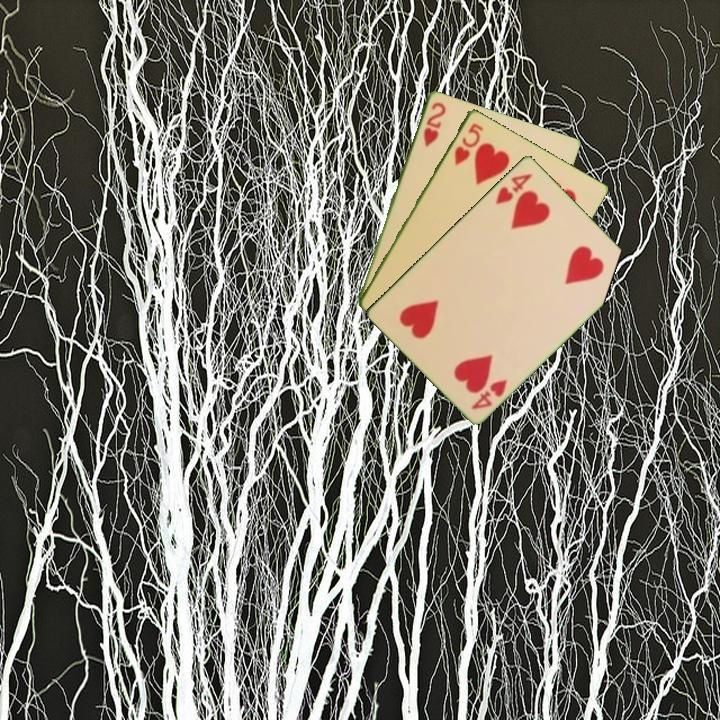2h: (420, 98, 449, 150)
4h: (491, 169, 535, 207), (467, 375, 510, 412)
5h: (451, 119, 486, 167)
